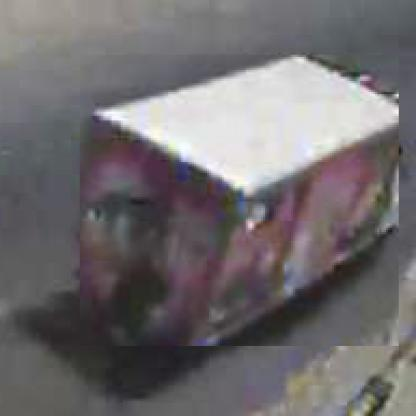truck: (79, 56, 400, 349)
